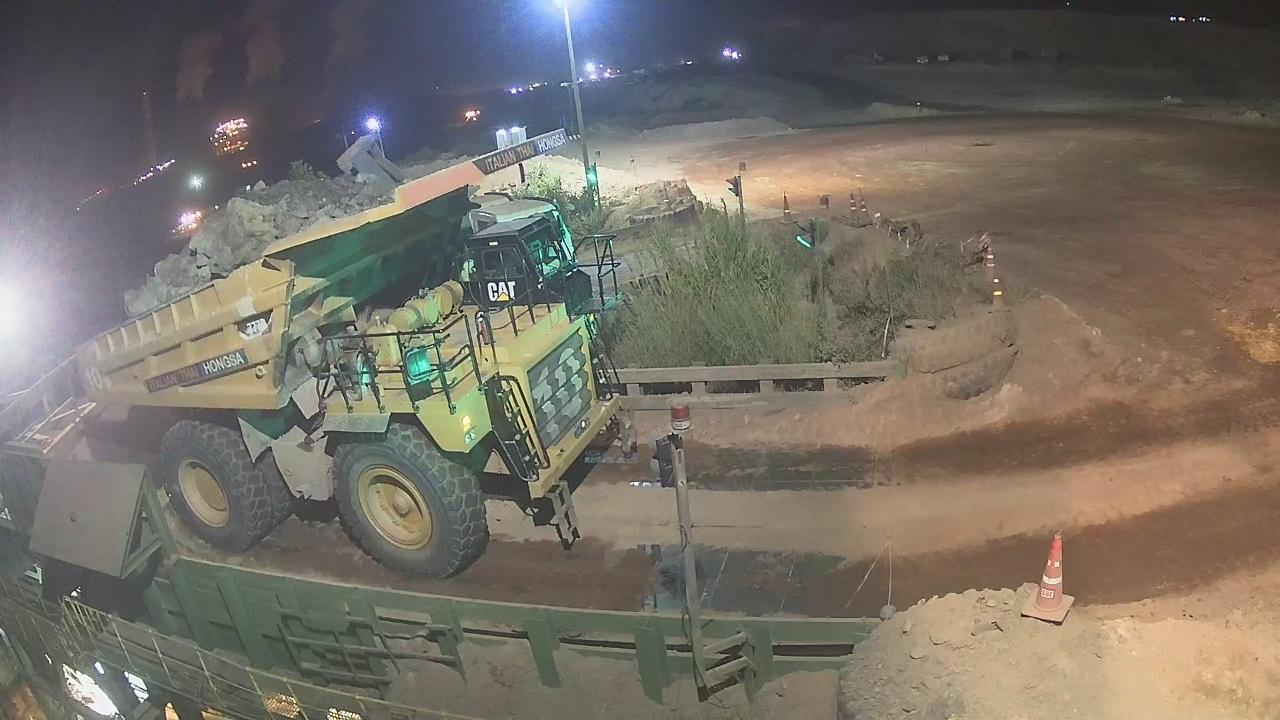company: (138, 351, 276, 391)
dumping_soil: (68, 116, 642, 578)
front_number: (521, 323, 604, 446)
full_load: (124, 162, 379, 283)
tail_number: (77, 363, 114, 397)
truck_size: (230, 308, 274, 341)
